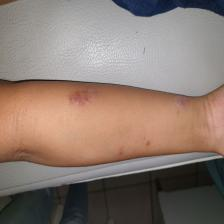DA: (64, 85, 108, 115), (113, 133, 152, 157), (174, 95, 192, 117)
